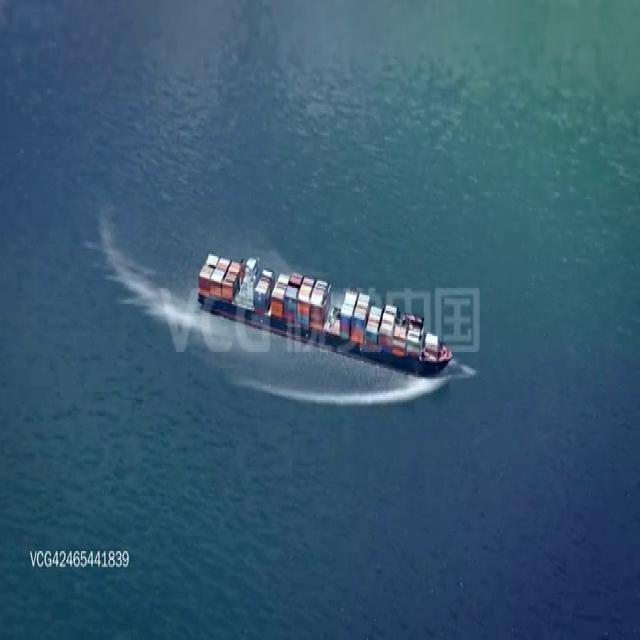cargoship: (196, 247, 452, 377)
